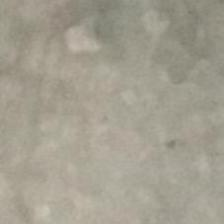Non_Crack: (14, 26, 205, 190)
